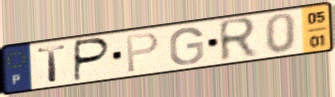0: (262, 12, 300, 56)
G: (168, 25, 206, 67)
P: (72, 36, 113, 83), (125, 31, 162, 75)
R: (216, 15, 260, 65)
T: (36, 43, 69, 84)
